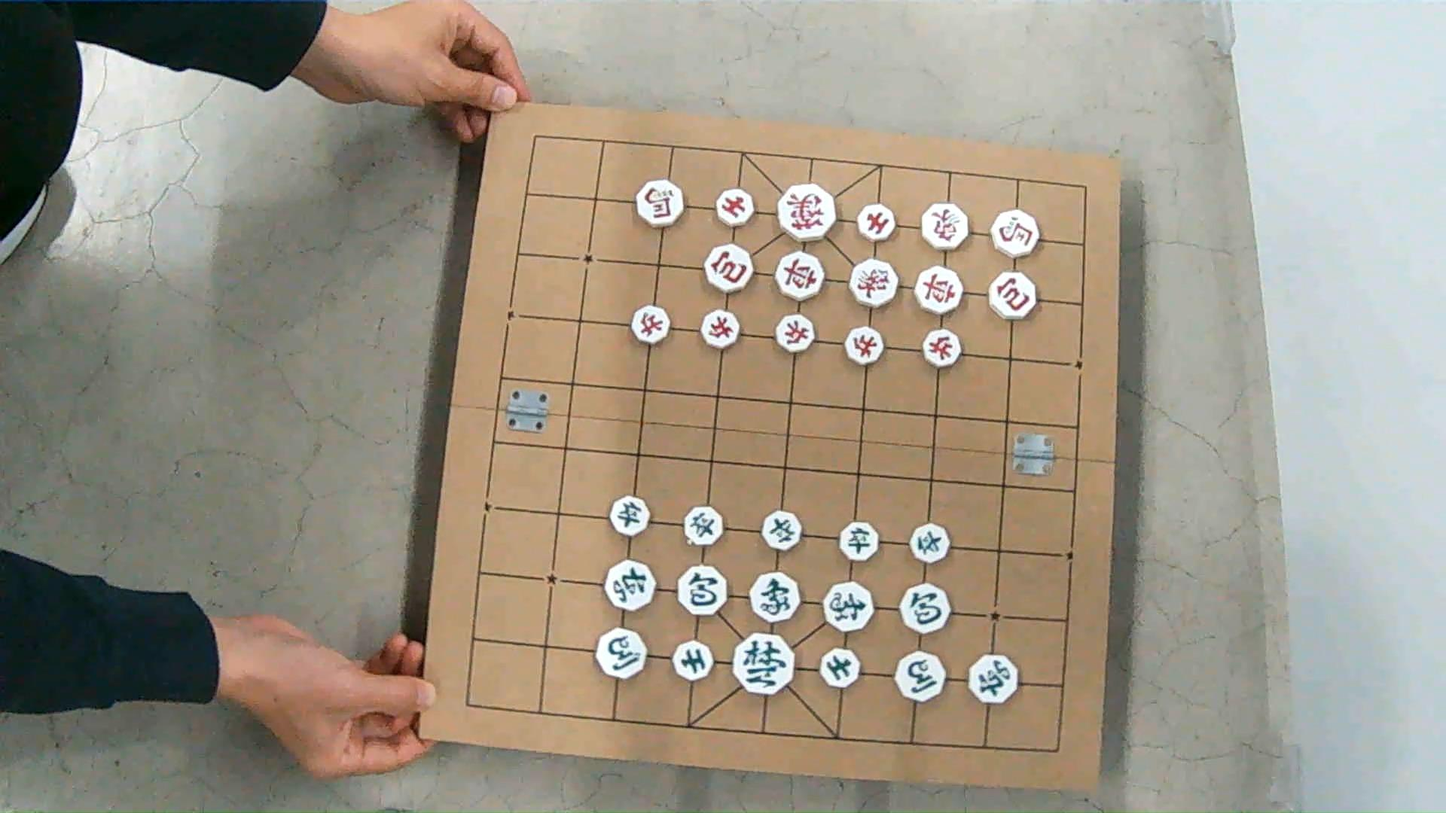cha_green: (605, 560, 654, 611), (968, 654, 1017, 704)
cha_red: (914, 266, 962, 315), (776, 251, 823, 300)
jol_green: (609, 496, 649, 537), (761, 510, 801, 550), (683, 507, 722, 546), (911, 524, 949, 563), (840, 522, 878, 561)
jol_red: (630, 305, 669, 344), (701, 310, 739, 348), (923, 329, 961, 367), (845, 327, 883, 364), (776, 315, 813, 353)
ma_green: (895, 652, 945, 702), (596, 629, 645, 678)
ma_red: (990, 210, 1039, 257), (636, 181, 682, 228)
po_green: (901, 583, 950, 634), (678, 565, 727, 616)
po_red: (703, 245, 752, 293), (989, 273, 1036, 319)
sa_green: (673, 641, 713, 681), (821, 648, 859, 687)
sa_red: (715, 188, 754, 227), (858, 204, 895, 242)
sang_green: (823, 581, 873, 632), (751, 572, 799, 623)
sang_red: (850, 259, 897, 308), (921, 203, 968, 250)
wang_green: (733, 632, 794, 695)
wang_red: (778, 184, 834, 241)
